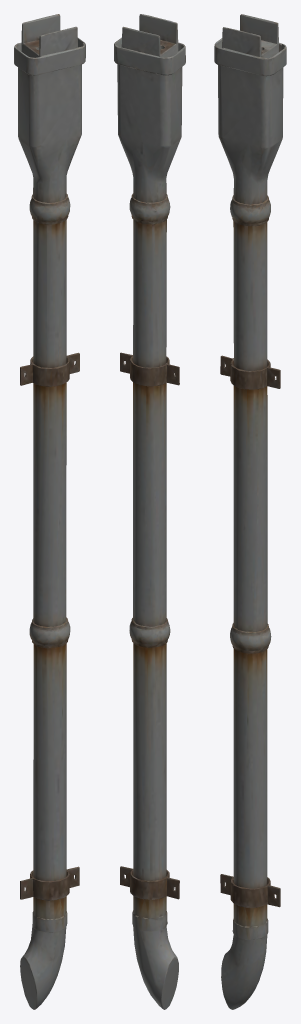
Rendered from familok_downpipe.glb.
3 renders of one model, left to right at view 1: azimuth 30°, elevation 25°; view 2: azimuth 150°, elevation 25°; view 3: azimuth 330°, elevation 25°, orthographic.
Visible parts, largest first — view 1: main; view 2: main; view 3: main.
Boxes of the visible parts, box(x1,y1,x2,y2) form: main: box(14, 14, 85, 1009); main: box(114, 14, 185, 1009); main: box(214, 14, 286, 1009).
Bounding box in the file's own units: 0.2085 × 3.3 × 0.127.
1 material, 1 textured.
